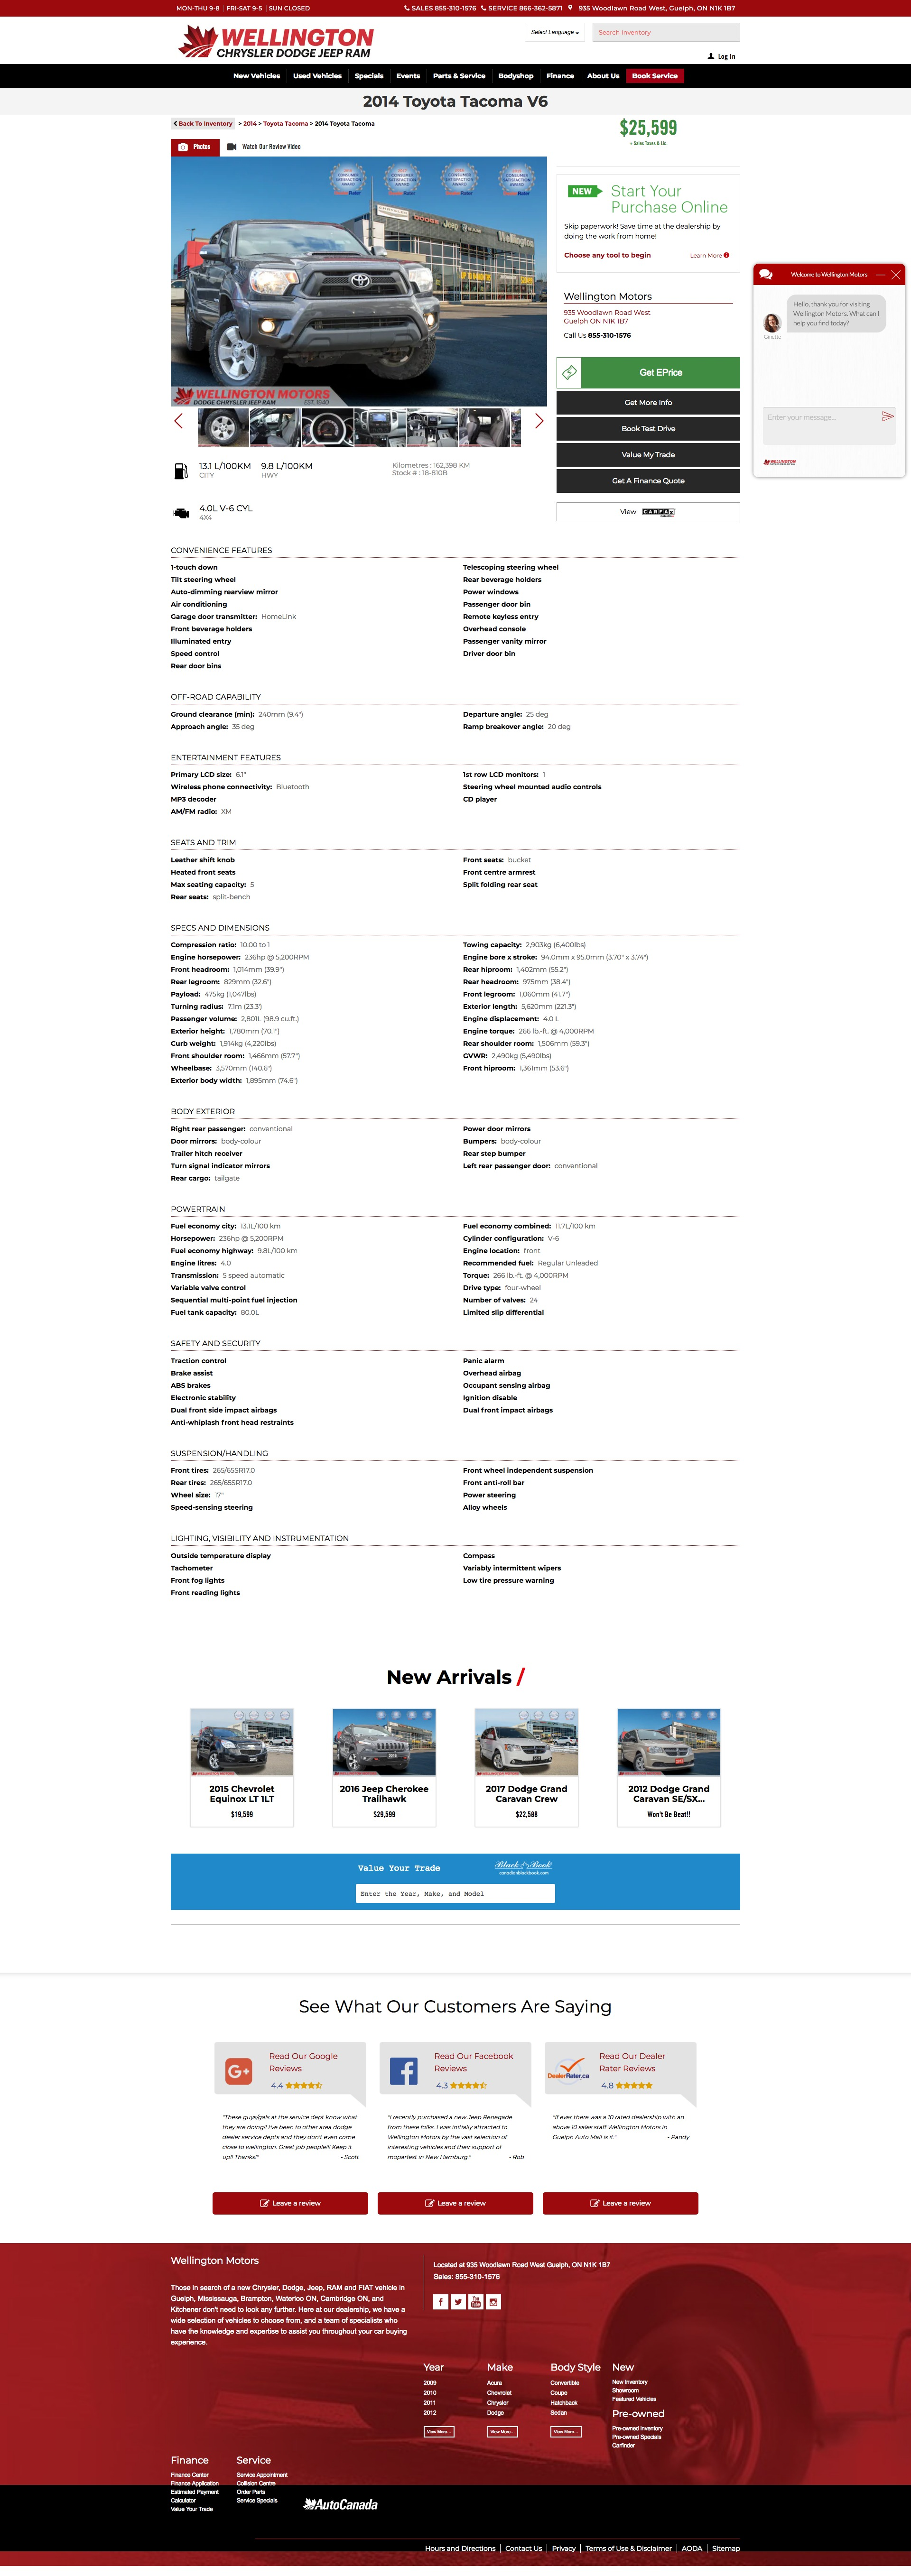car: (534, 412, 544, 429)
